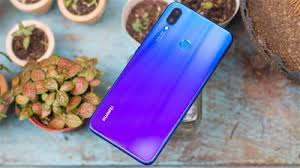huawei: (73, 2, 236, 162)
